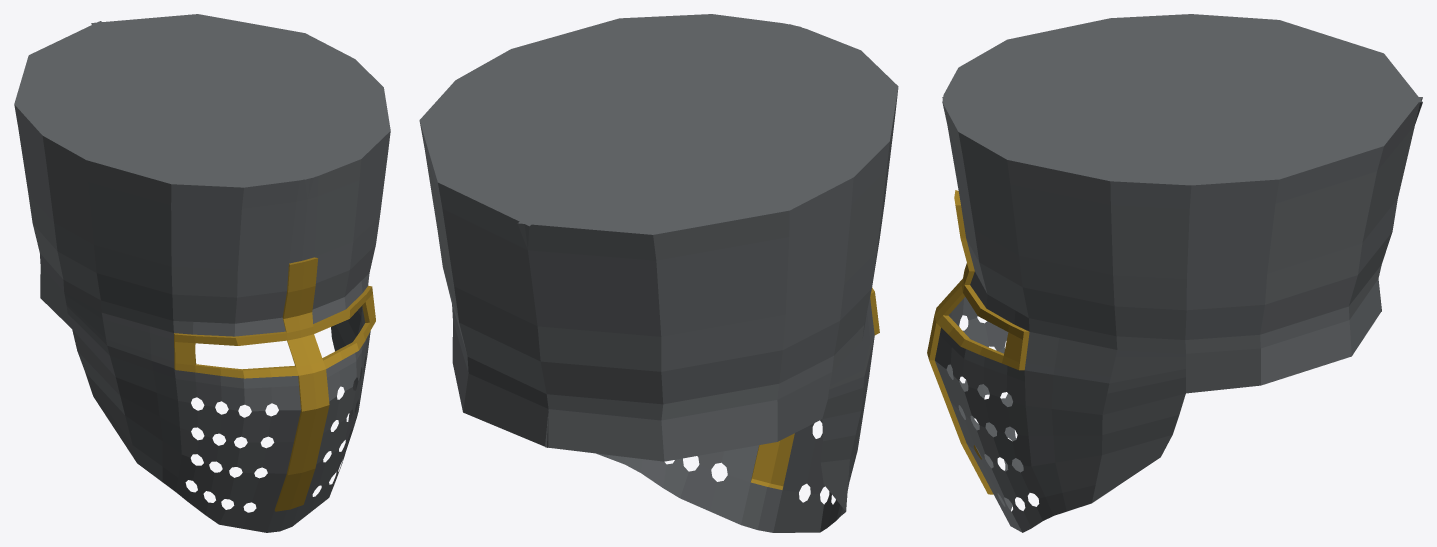
The model's file is helmet.fbx.
The picture shows the model from 3 angles, left to right: view 1: azimuth 30°, elevation 25°; view 2: azimuth 150°, elevation 25°; view 3: azimuth 270°, elevation 25°; orthographic projection. The views are drawn at different scales.
Visible parts, largest first — view 1: Cylinder; view 2: Cylinder; view 3: Cylinder.
Part boxes in pixels (x1,y1,x2,y2): Cylinder: (14,14,390,532); Cylinder: (419,14,898,532); Cylinder: (927,14,1422,532).
Bounding box in the file's own units: 43 × 49.21 × 52.56.
